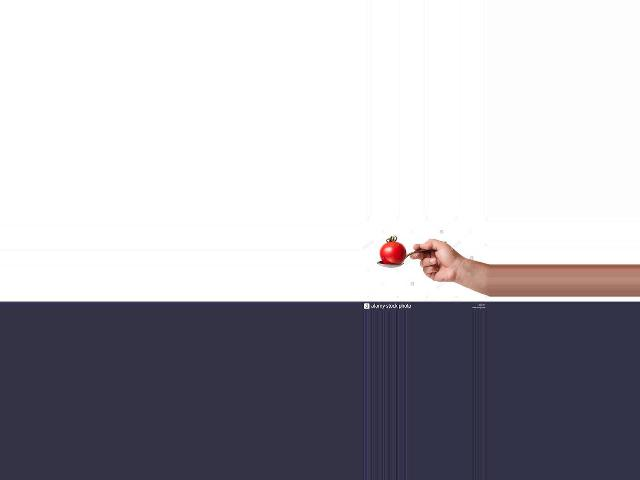tomato: (380, 241, 406, 264)
